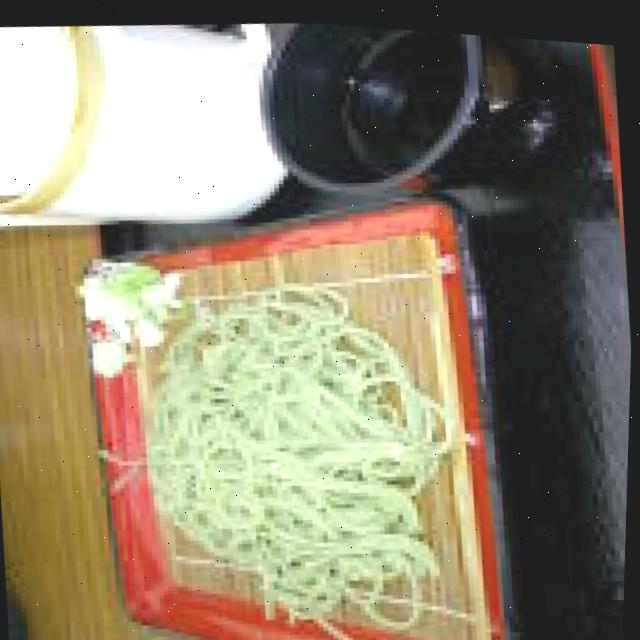面条主食: (39, 142, 540, 640)
